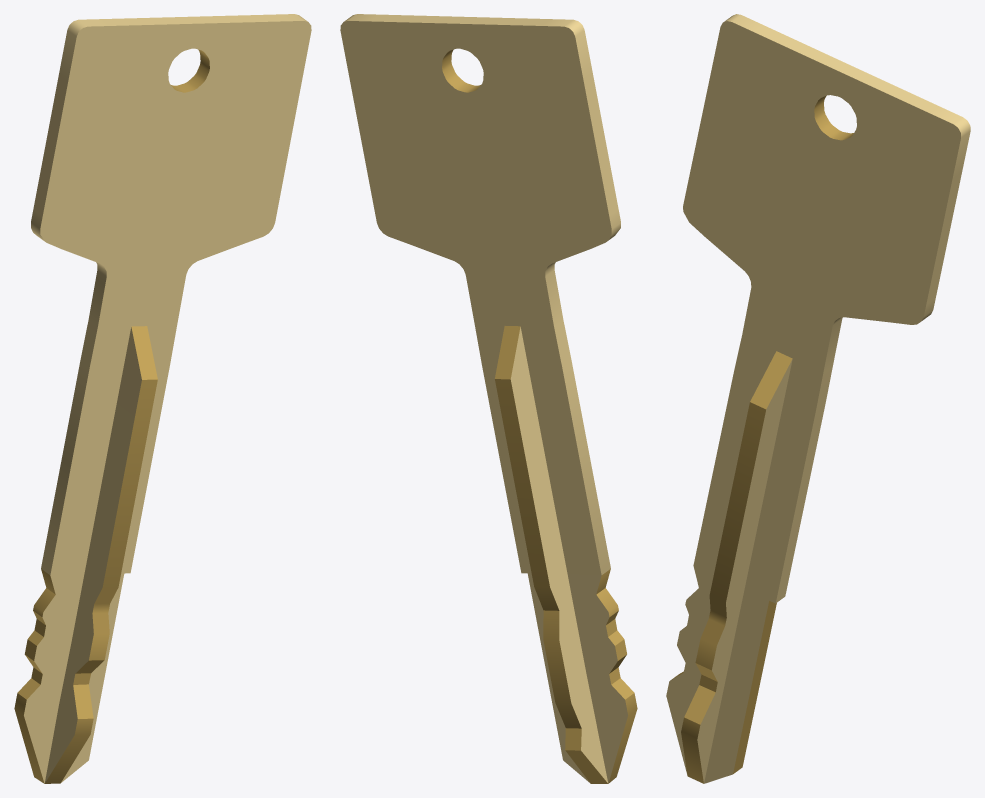
The model's file is Key_23.fbx.
3 renders of one model, left to right at view 1: azimuth 30°, elevation 25°; view 2: azimuth 150°, elevation 25°; view 3: azimuth 330°, elevation 25°, orthographic. The views are drawn at different scales.
Parts seen in each view (by area): view 1: Key23.001; view 2: Key23.001; view 3: Key23.001.
Boxes of the visible parts, bbox=[...] form: Key23.001: bbox=[14, 14, 311, 783]; Key23.001: bbox=[340, 14, 637, 783]; Key23.001: bbox=[666, 14, 970, 783].
Bounding box in the file's own units: 0.475 × 1.18 × 0.1313.
